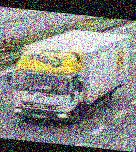truck: (2, 19, 136, 134)
